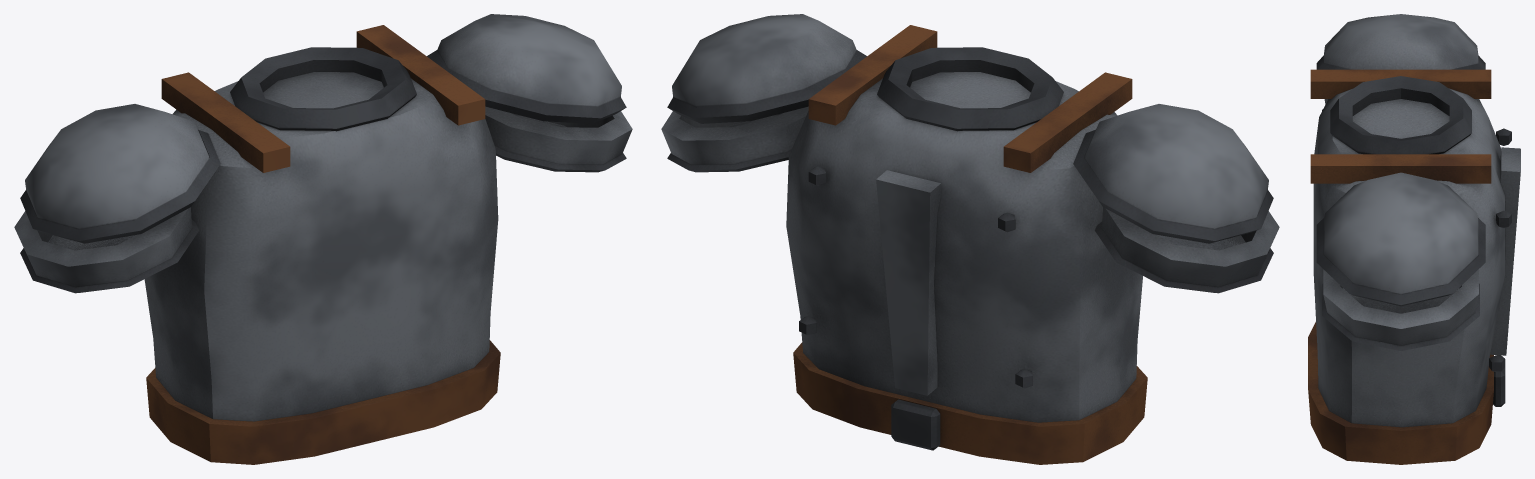
The model's file is armadura_hierro.fbx.
3 renders of one model, left to right at view 1: azimuth 30°, elevation 25°; view 2: azimuth 150°, elevation 25°; view 3: azimuth 270°, elevation 25°, orthographic. The views are drawn at different scales.
Parts seen in each view (by area): view 1: armadura_hierro_peto, armadura_hierro_hombrera_der, armadura_hierro_hombrera_izq; view 2: armadura_hierro_peto, armadura_hierro_hombrera_der, armadura_hierro_hombrera_izq; view 3: armadura_hierro_peto, armadura_hierro_hombrera_izq, armadura_hierro_hombrera_der.
Boxes of the visible parts, x1=… form: armadura_hierro_peto: x1=144, y1=25, x2=500, y2=464; armadura_hierro_hombrera_der: x1=14, y1=104, x2=220, y2=293; armadura_hierro_hombrera_izq: x1=427, y1=14, x2=632, y2=172; armadura_hierro_peto: x1=786, y1=25, x2=1147, y2=464; armadura_hierro_hombrera_der: x1=1073, y1=104, x2=1279, y2=293; armadura_hierro_hombrera_izq: x1=661, y1=14, x2=866, y2=172; armadura_hierro_peto: x1=1308, y1=69, x2=1520, y2=464; armadura_hierro_hombrera_izq: x1=1316, y1=172, x2=1485, y2=350; armadura_hierro_hombrera_der: x1=1316, y1=14, x2=1485, y2=110.
Size of the model in its own units: 4.38 by 2.35 by 1.53.
Materials: 1 (1 with a texture image).
